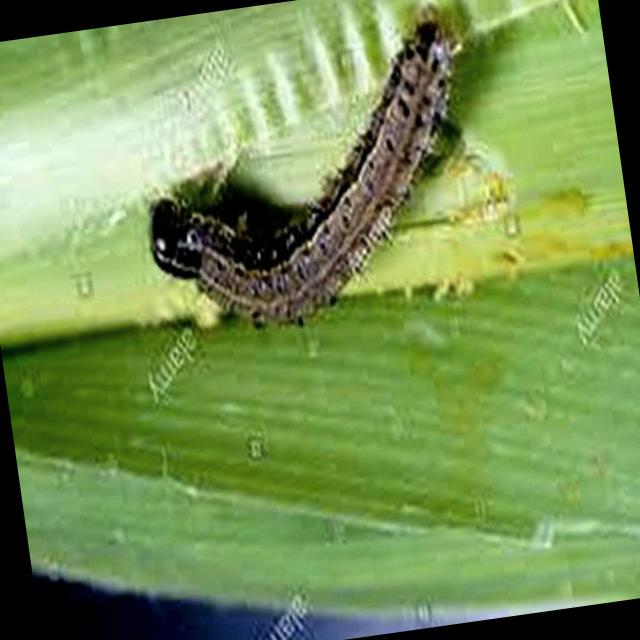pest: (124, 20, 495, 352)
